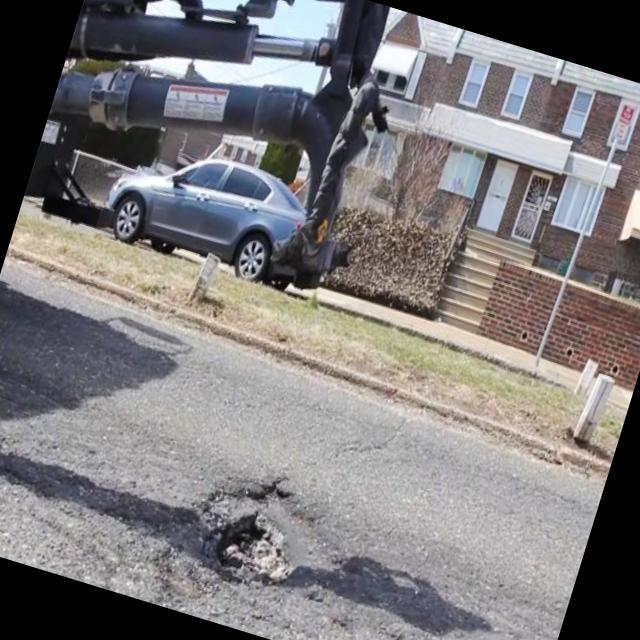Potholes: (150, 425, 368, 637)
